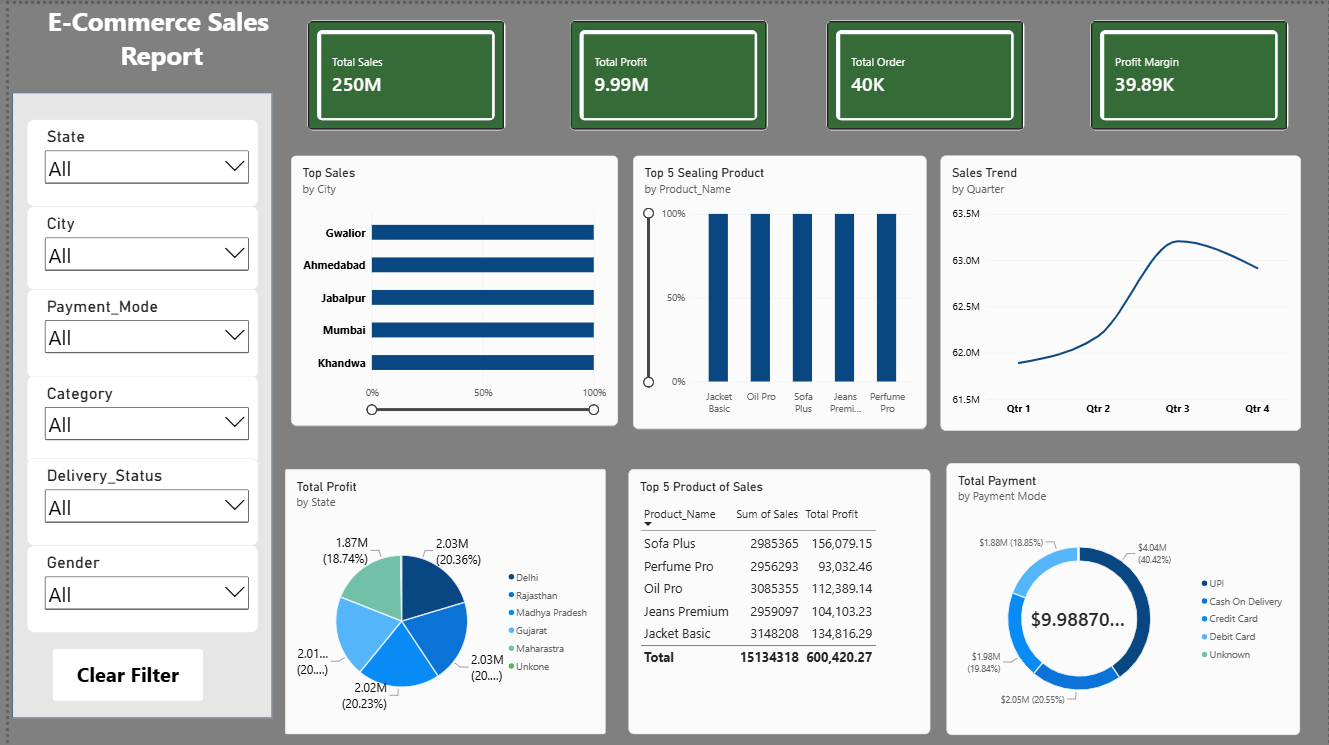

This screenshot's page, from the dashboard's own definition file:
{"tool":"powerbi","page":{"name":"Page 1","canvas":[1920,1080],"ordinal":0},"visuals":[{"type":"cardVisual","fields":{"Data":["Clean_Data.Total Sales"]},"box":[434.8,24.3,287.9,160],"z":0},{"type":"shape","box":[4.9,128.7,378.9,910.8],"z":0,"group":"g1"},{"type":"cardVisual","fields":{"Data":["Sum(Clean_Data.Quantity)"]},"box":[1190.1,24.3,287.9,160],"z":1000},{"type":"actionButton","box":[63.2,939.6,219.5,75.6],"z":1000,"group":"g1"},{"type":"cardVisual","fields":{"Data":["Sum(Clean_Data.Profit)"]},"box":[816.1,24.3,287.9,160],"z":2000},{"type":"slicer","fields":{"Values":["Clean_Data.State"]},"box":[26.8,168.7,336.6,126.9],"z":2000,"group":"g2"},{"type":"cardVisual","fields":{"Data":["Sum(Clean_Data.Profit_Margin)"]},"box":[1573.9,24.3,287.9,160],"z":3000},{"type":"slicer","fields":{"Values":["Clean_Data.City"]},"box":[26.9,294.7,336.6,121.5],"z":3000,"group":"g2"},{"type":"slicer","fields":{"Values":["Clean_Data.Payment_Mode"]},"box":[26.9,416.2,336.6,129.6],"z":4000,"group":"g2"},{"type":"pieChart","fields":{"Category":["Clean_Data.State"],"Y":["Clean_Data.Total Profit"]},"box":[400.8,677.6,466.3,386.2],"z":4000},{"type":"hundredPercentStackedBarChart","fields":{"Category":["Clean_Data.City"],"Y":["Sum(Clean_Data.Sales)"]},"box":[410.5,221,476.1,393.5],"z":5000},{"type":"slicer","fields":{"Values":["Clean_Data.Category"]},"box":[26.9,543.1,336.6,129.6],"z":5000,"group":"g2"},{"type":"hundredPercentStackedColumnChart","fields":{"Category":["Clean_Data.Product_Name"],"Y":["Clean_Data.Total Sales"]},"box":[908.4,221,427.5,398.3],"z":6000},{"type":"slicer","fields":{"Values":["Clean_Data.Delivery_Status"]},"box":[26.9,661.8,336.6,126.9],"z":6000,"group":"g2"},{"type":"tableEx","title":"Top 5 Product of Sales","fields":{"Values":["Clean_Data.Product_Name","Sum(Clean_Data.Sales)","Clean_Data.Total Profit"]},"box":[901.1,677.6,439.6,386.2],"z":7000},{"type":"textbox","box":[0,0,434.1,104.9],"z":8000},{"type":"lineChart","fields":{"Category":["Clean_Data.Shipping_Date.Variation.Date Hierarchy.Quarter"],"Y":["Sum(Clean_Data.Sales)"]},"box":[1355.3,221,524.6,400.8],"z":9000},{"type":"donutChart","fields":{"Y":["Clean_Data.Total Profit"],"Category":["Clean_Data.Payment_Mode"]},"box":[1365,667.9,514.9,395.9],"z":10000},{"type":"group","id":"g1","title":"Group 2","box":[4.9,128.7,378.9,910.8],"z":11000},{"type":"slicer","fields":{"Values":["Clean_Data.Gender"]},"box":[26.8,788.3,336.6,126.9],"z":12001,"group":"g2"},{"type":"group","id":"g2","title":"Group 1","box":[26.8,168.7,337.6,745.2],"z":12002,"group":"g1"}]}

Visuals, with their boxes in screenshot pixels (x1, y1, x2, y2), scaled from the page's 1920x1080 canvas onto the 1329x745 screenshot:
cardVisual - Clean_Data.Total Sales: [301, 17, 500, 127]
shape: [3, 89, 266, 717]
cardVisual - Sum(Clean_Data.Quantity): [824, 17, 1023, 127]
actionButton: [44, 648, 196, 700]
cardVisual - Sum(Clean_Data.Profit): [565, 17, 764, 127]
slicer - Clean_Data.State: [19, 116, 252, 204]
cardVisual - Sum(Clean_Data.Profit_Margin): [1089, 17, 1289, 127]
slicer - Clean_Data.City: [19, 203, 252, 287]
slicer - Clean_Data.Payment_Mode: [19, 287, 252, 377]
pieChart - Clean_Data.State x Clean_Data.Total Profit: [277, 467, 600, 734]
hundredPercentStackedBarChart - Clean_Data.City x Sum(Clean_Data.Sales): [284, 152, 614, 424]
slicer - Clean_Data.Category: [19, 375, 252, 464]
hundredPercentStackedColumnChart - Clean_Data.Product_Name x Clean_Data.Total Sales: [629, 152, 925, 427]
slicer - Clean_Data.Delivery_Status: [19, 457, 252, 544]
"Top 5 Product of Sales" tableEx: [624, 467, 928, 734]
textbox: [0, 0, 300, 72]
lineChart - Clean_Data.Shipping_Date.Variation.Date Hierarchy.Quarter x Sum(Clean_Data.Sales): [938, 152, 1301, 429]
donutChart - Clean_Data.Total Profit x Clean_Data.Payment_Mode: [945, 461, 1301, 734]
"Group 2" group: [3, 89, 266, 717]
slicer - Clean_Data.Gender: [19, 544, 252, 631]
"Group 1" group: [19, 116, 252, 630]
